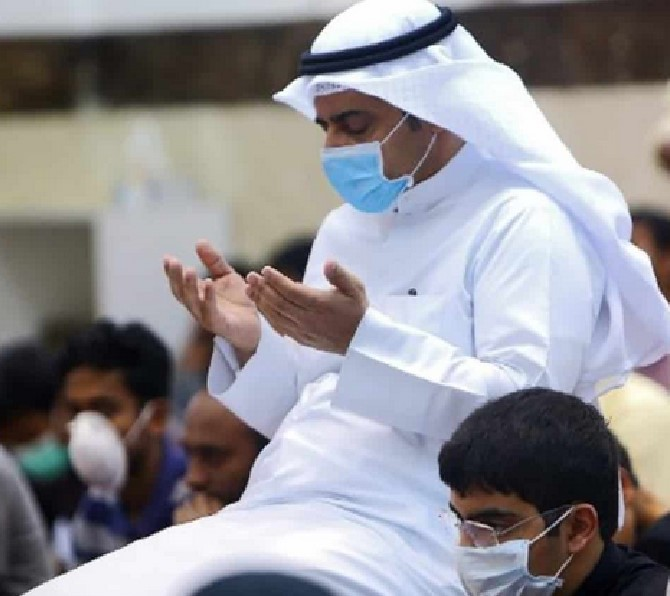face_no_mask: (182, 392, 266, 509)
face_with_mask: (438, 393, 627, 595), (309, 29, 463, 212), (66, 319, 177, 493)
